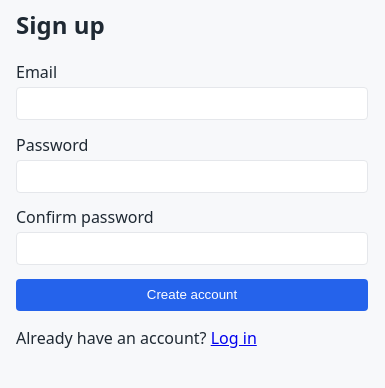
SignupPage › maps 400 field errors back onto fields (MSW)
The width and height of the screenshot is (385, 388).
Type "alice@example.com" into the field labelled "Email" at (192, 103), box x1=16 y1=87 x2=368 y2=120
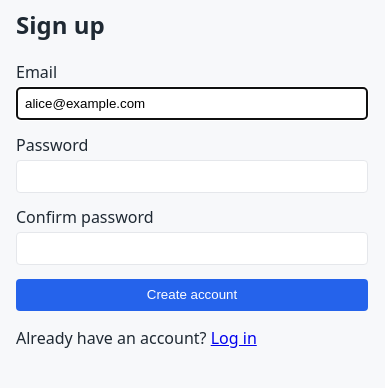
Type "password1" into the password field labelled "Password" at (192, 176), box x1=16 y1=160 x2=368 y2=192
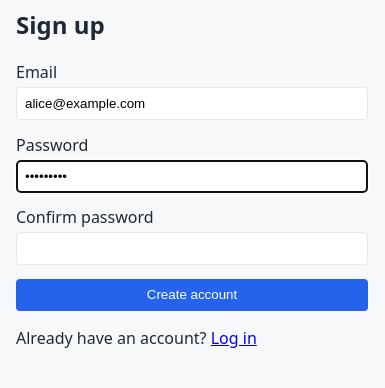
Type "password1" into the password field labelled "Confirm password" at (192, 249), box x1=16 y1=232 x2=368 y2=265
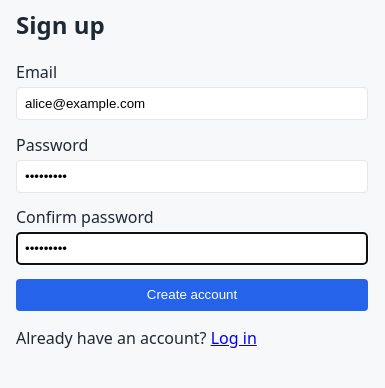
Click the button "Create account" at (192, 295), box x1=16 y1=279 x2=368 y2=311
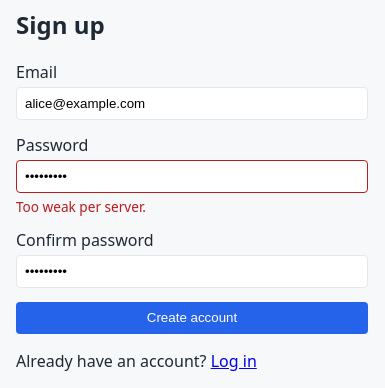
Result: the text "Too weak per server." is shown at x1=16 y1=196 x2=146 y2=216
